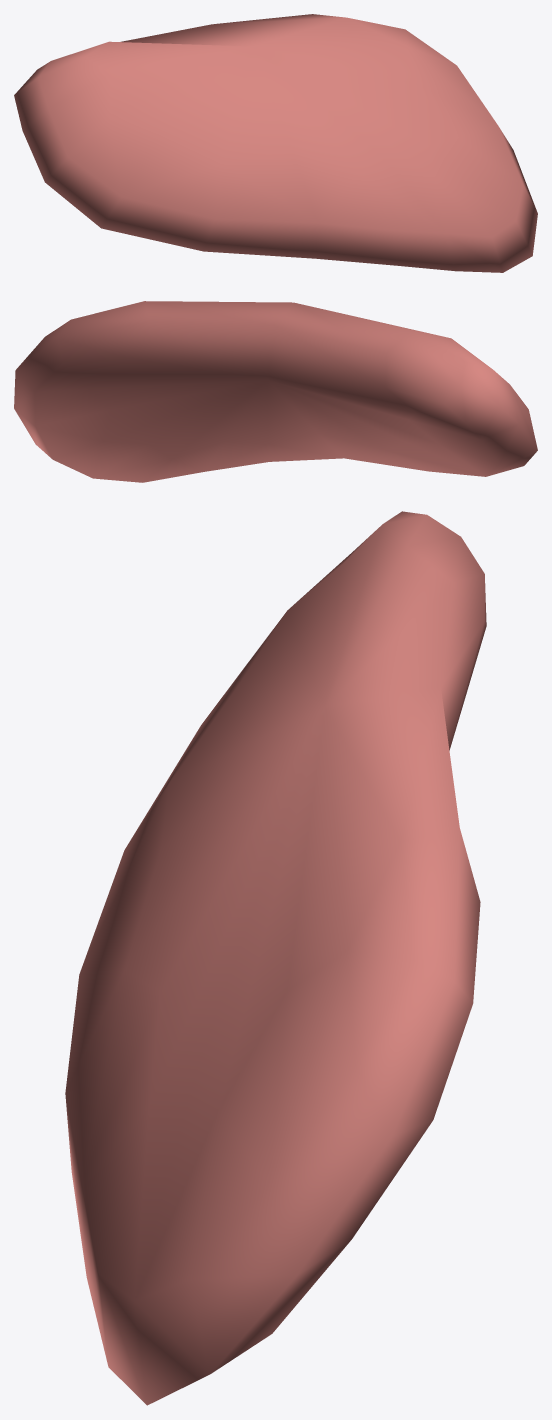
3 renders of one model, top to bottom at view 1: azimuth 30°, elevation 25°; view 2: azimuth 150°, elevation 25°; view 3: azimuth 270°, elevation 25°, orthographic. The views are drawn at different scales.
Visible parts, largest first — view 1: ZA_629f28a4fda4a850; view 2: ZA_629f28a4fda4a850; view 3: ZA_629f28a4fda4a850.
Part boxes in pixels (x1,y1,x2,y2): ZA_629f28a4fda4a850: (14,14,537,272); ZA_629f28a4fda4a850: (14,301,537,482); ZA_629f28a4fda4a850: (65,511,486,1405).
Bounding box in the file's own units: 0.0032 × 0.00165 × 0.00124.
